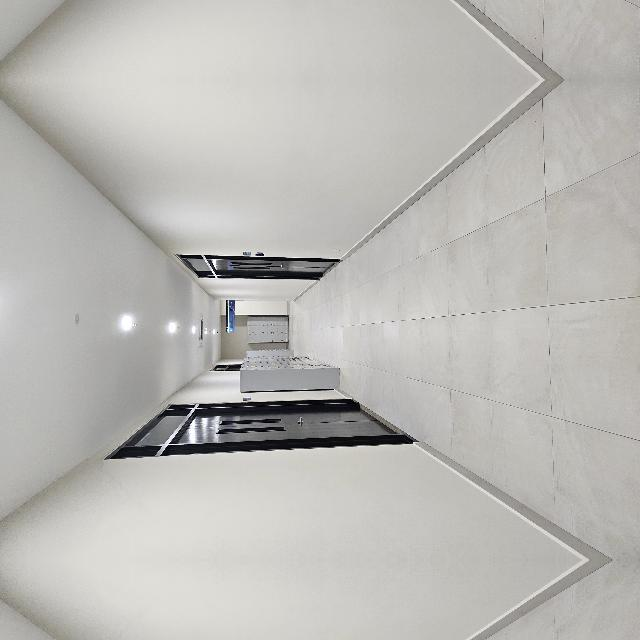door: (111, 244, 159, 493), (278, 286, 308, 420), (111, 626, 159, 640)
obstacle: (166, 317, 210, 421)
